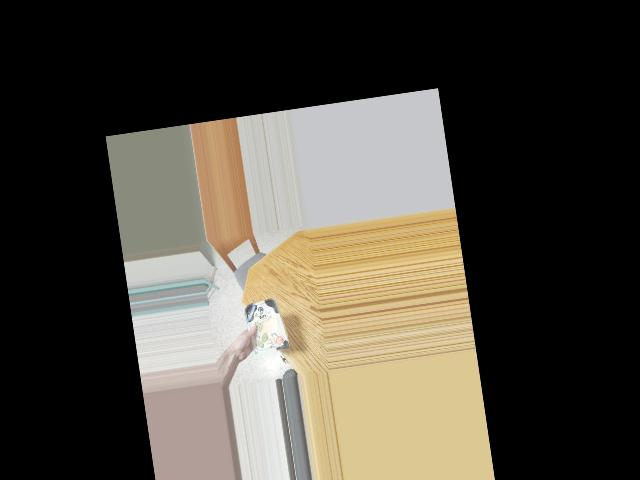cheese: (236, 298, 290, 356)
